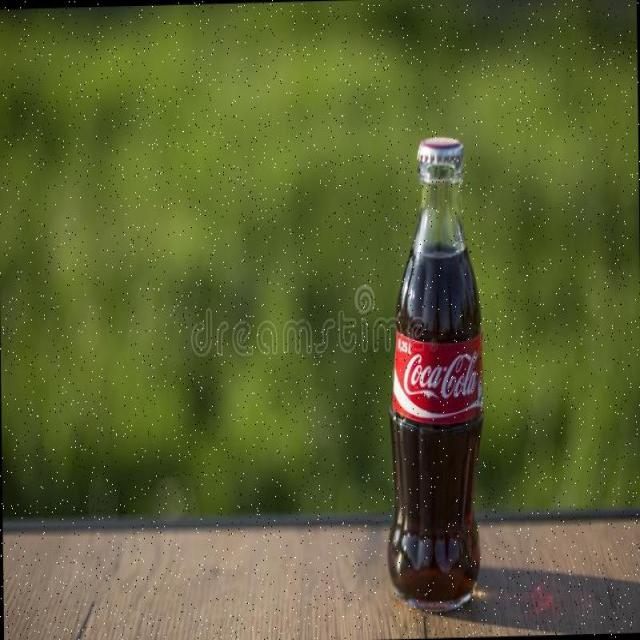coca-cola: (380, 126, 486, 611)
